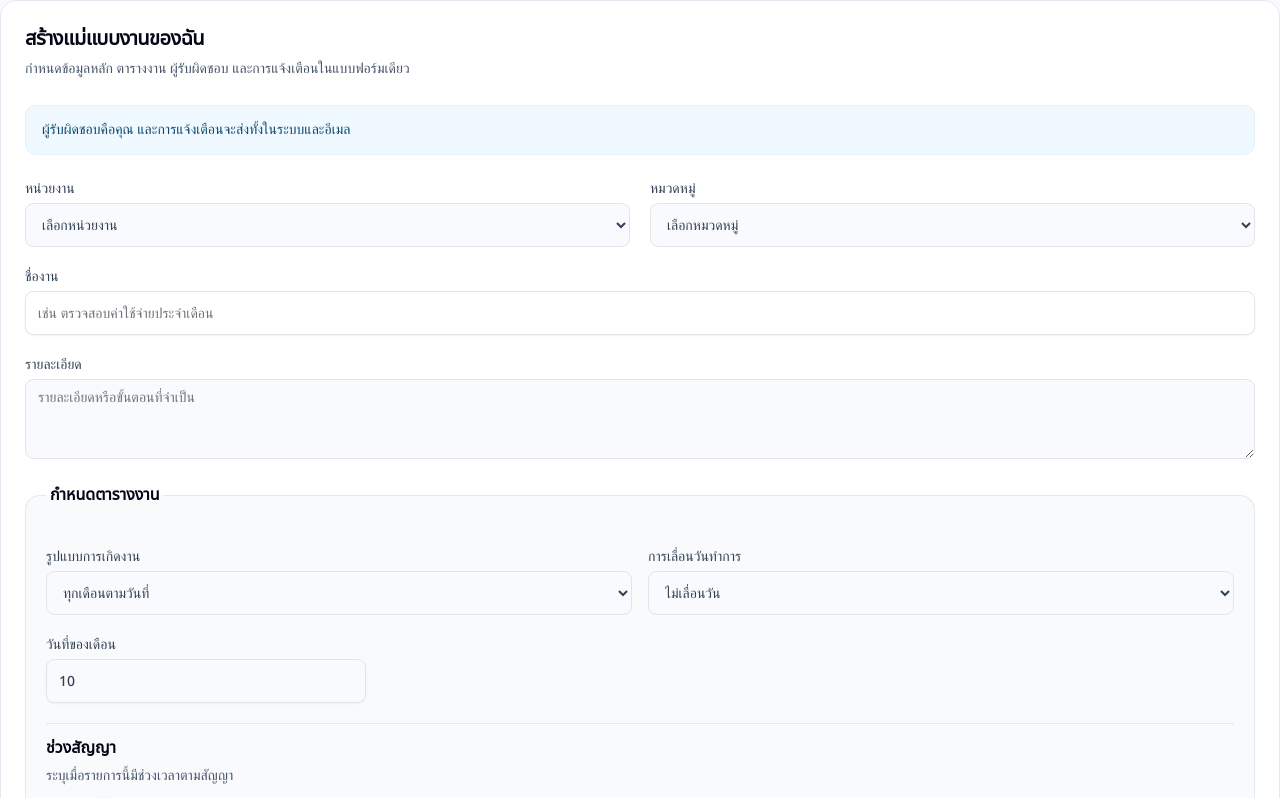
Test: RoutineTaskForm reminder rules › uses the shared Bangkok-date defaults when switching schedule types
The image size is (1280, 798).
Select "ทุกระยะเดือน" in the dropdown labelled "รูปแบบการเกิดงาน" at [339, 593], box [46,571,632,615]
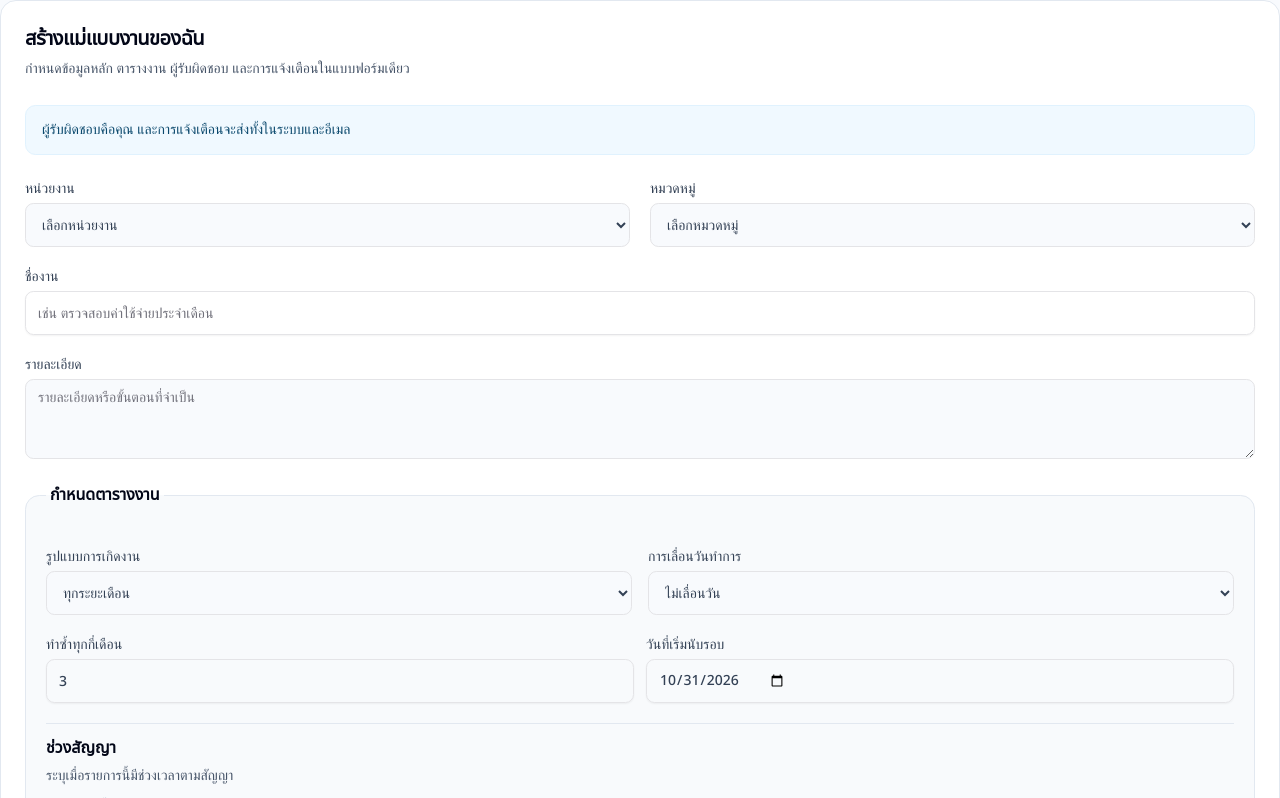
Select "ครั้งเดียว" in the dropdown labelled "รูปแบบการเกิดงาน" at [339, 593], box [46,571,632,615]
(page scrolled)
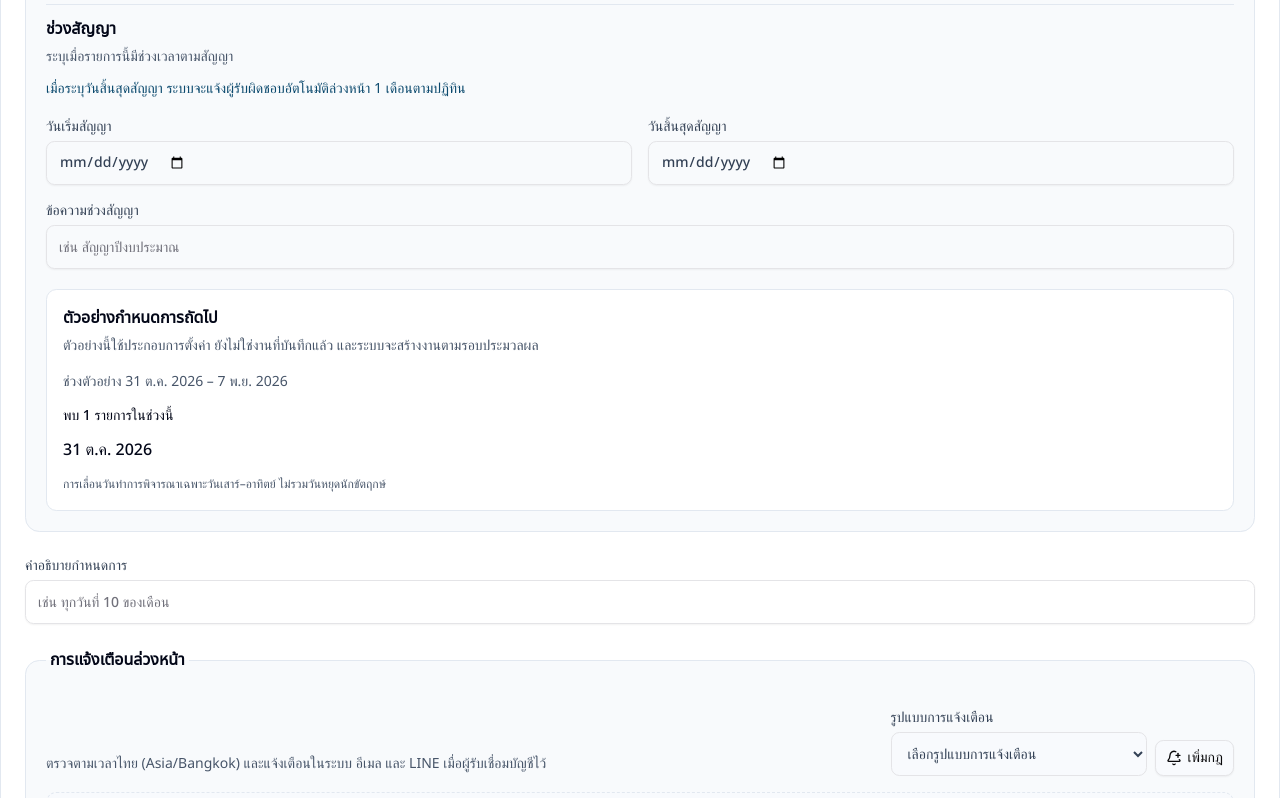
expect the element "ตัวอย่างกำหนดการถัดไป" shows "พบ 1 รายการในช่วงนี้": met, box [63,405,173,426]
